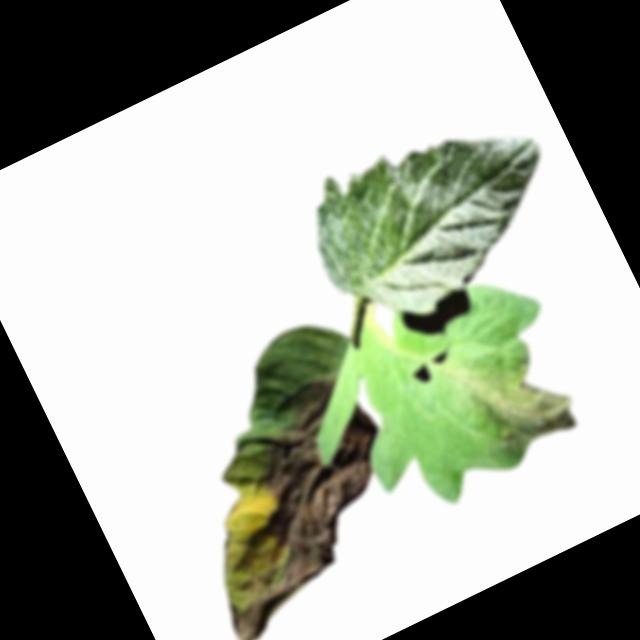Late_blight: (149, 363, 441, 640), (451, 339, 586, 471)
healthy: (286, 85, 587, 349)
